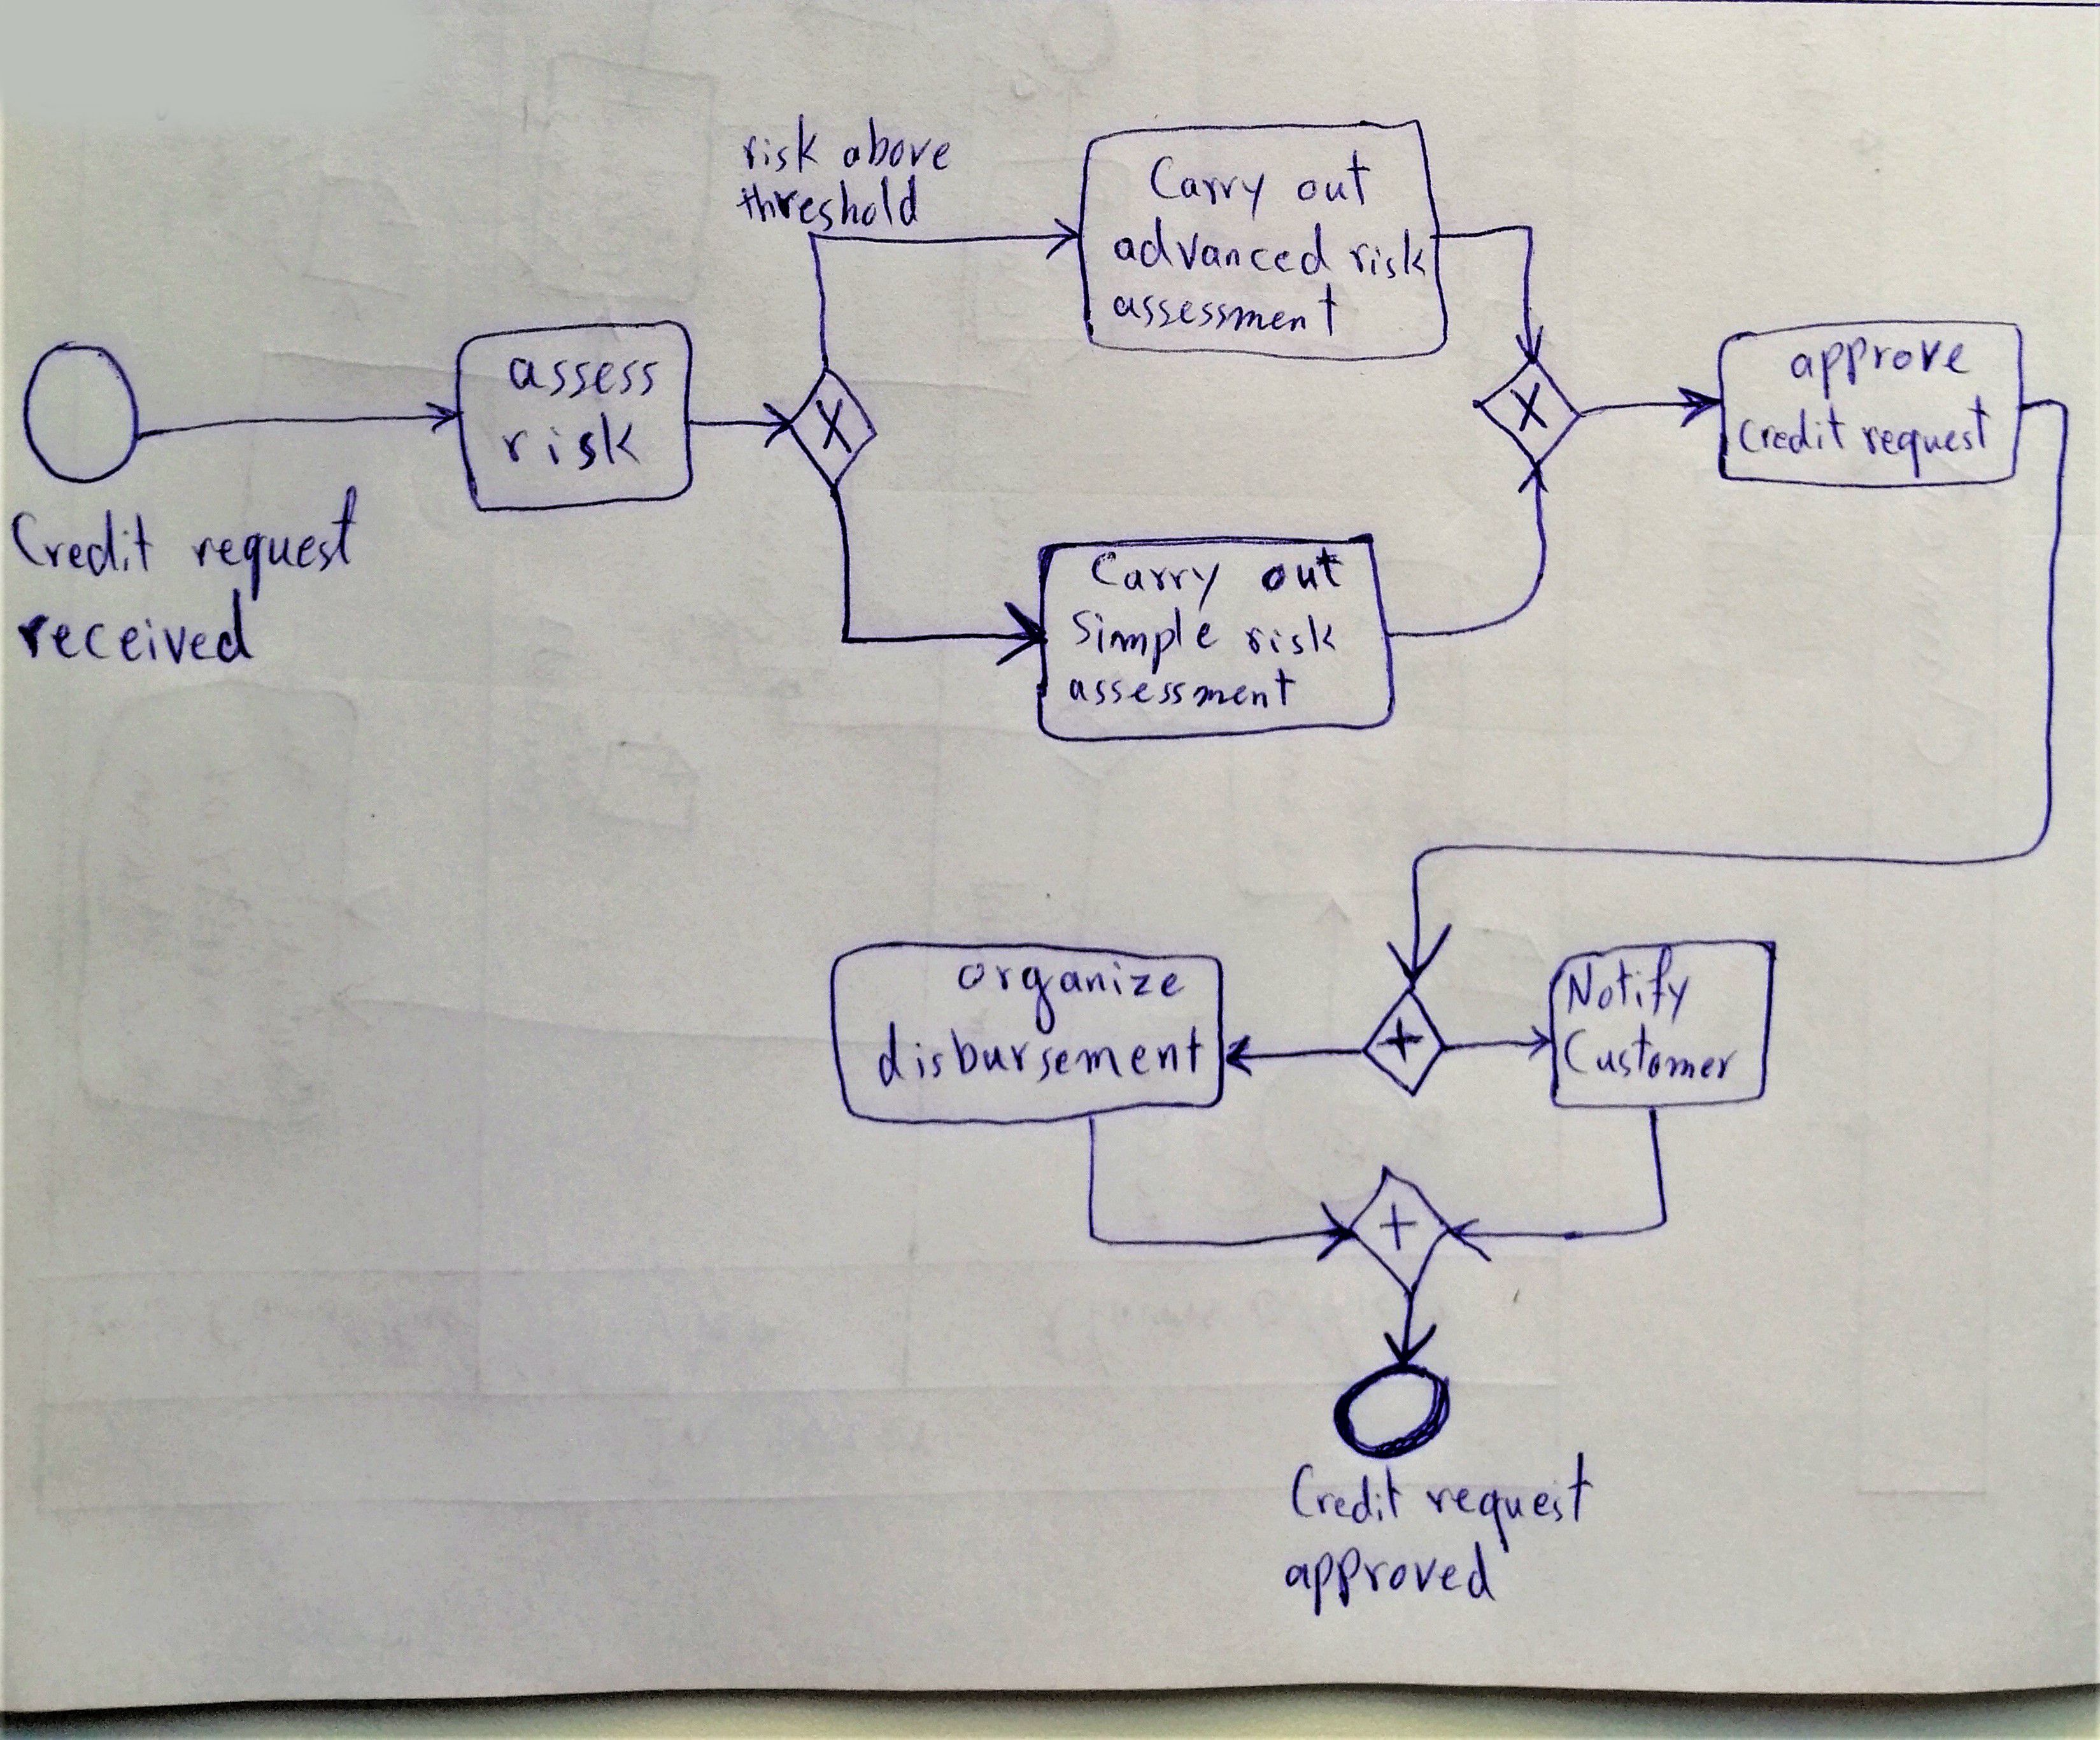Carry: (1083, 542, 1228, 619), (1141, 148, 1273, 228)
Credit: (2, 502, 162, 584), (1282, 1454, 1411, 1533)
Customer: (1554, 1015, 1748, 1088)
Notify: (1559, 936, 1697, 1032)
Simple: (1062, 600, 1226, 682)
above: (834, 110, 958, 176)
advanced: (1106, 209, 1338, 284)
approve: (1783, 328, 1976, 406)
approved: (1275, 1533, 1505, 1625)
assess: (501, 349, 665, 406)
assessment: (1106, 274, 1345, 343), (1062, 661, 1301, 717)
credit: (1732, 396, 1852, 460)
disbursement: (867, 1011, 1212, 1093)
organize: (949, 952, 1191, 1043)
out: (1287, 143, 1378, 213), (1254, 540, 1350, 602)
received: (7, 579, 265, 671)
request: (181, 478, 366, 610), (1418, 1440, 1599, 1560), (1854, 387, 1995, 485)
risk: (492, 404, 649, 478), (736, 108, 825, 181), (1341, 220, 1432, 286), (1237, 608, 1343, 663)
threshold: (727, 166, 928, 237)
